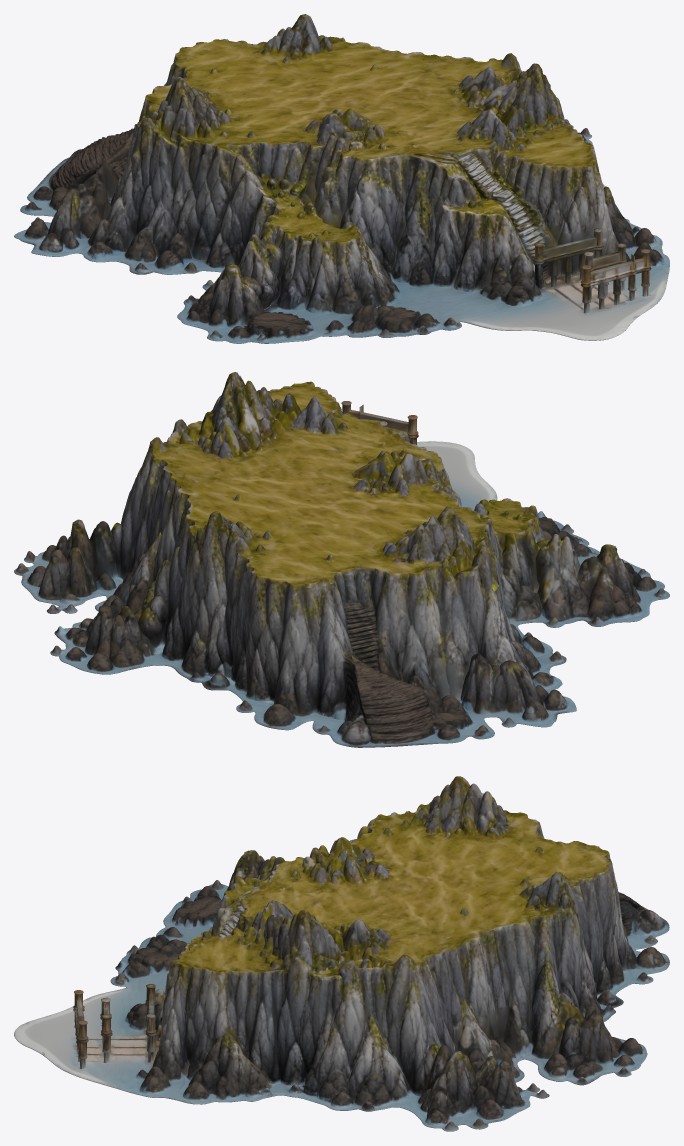
File: island_plateau.glb
The picture shows the model from 3 angles, top to bottom: view 1: azimuth 30°, elevation 25°; view 2: azimuth 150°, elevation 25°; view 3: azimuth 270°, elevation 25°; orthographic projection. The views are drawn at different scales.
Visible parts, largest first — view 1: material; view 2: material; view 3: material.
Boxes of the visible parts, bbox=[...] form: material: bbox=[14, 14, 669, 343]; material: bbox=[14, 372, 669, 747]; material: bbox=[14, 776, 669, 1131].
Size of the model in its own units: 1.01 by 0.2895 by 1.04.
1 material, 1 textured.
